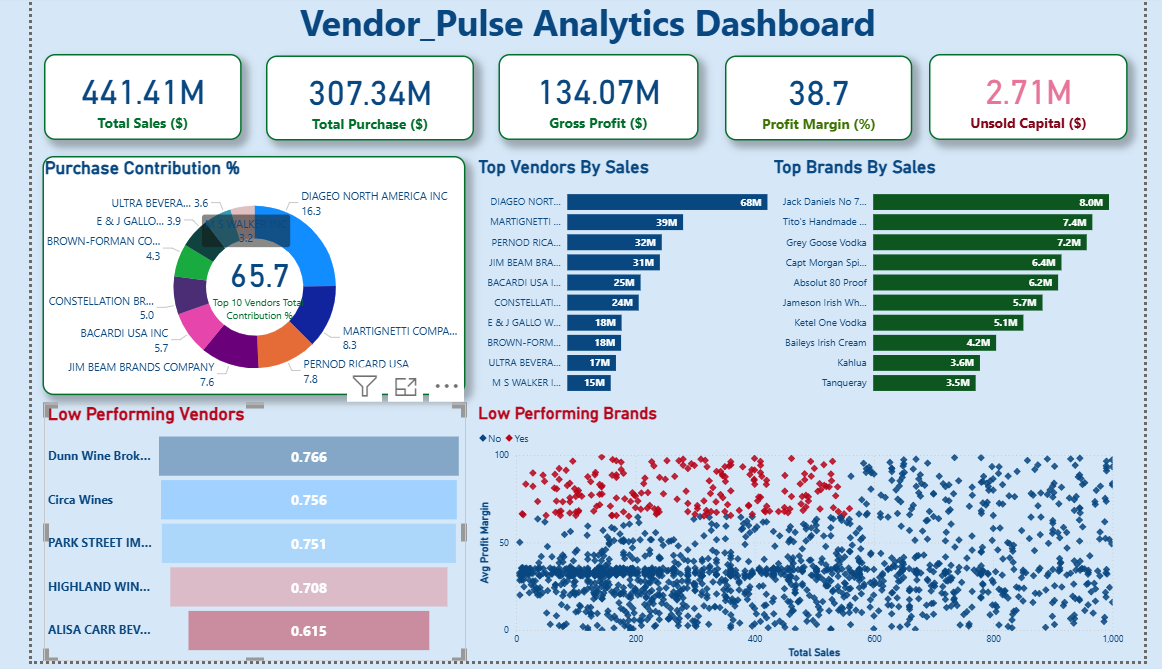

This screenshot's page, from the dashboard's own definition file:
{"tool":"powerbi","page":{"name":"Page 1","canvas":[1500,900],"ordinal":0},"visuals":[{"type":"card","fields":{"Values":["Sum(vendor_sales_summary.TotalPurchaseDollars)"]},"box":[315.8,82.4,280.9,114.6],"z":0},{"type":"card","fields":{"Values":["Sum(vendor_sales_summary.TotalSalesDollars)"]},"box":[16.8,81,266.9,116],"z":1000},{"type":"card","fields":{"Values":["Sum(vendor_sales_summary.GrossProfit)"]},"box":[630.2,81,269.7,116],"z":2000},{"type":"card","fields":{"Values":["Avg(vendor_sales_summary.ProfitMargin)"]},"box":[934.8,82.4,252.9,114.6],"z":3000},{"type":"card","fields":{"Values":["Sum(vendor_sales_summary.UnsoldCapital)"]},"box":[1210.1,81,268.3,116],"z":4000},{"type":"textbox","box":[0,0,1500,83],"z":5000},{"type":"donutChart","title":"Purchase Contribution % ","fields":{"Category":["PurchaseContribution.VendorName"],"Y":["Sum(PurchaseContribution.PurchaseContribution%)"]},"box":[14.5,219.4,571,322.6],"z":6000},{"type":"card","fields":{"Values":["Sum(PurchaseContribution.PurchaseContribution%)"]},"box":[211.8,266.7,188.2,233.3],"z":7000},{"type":"barChart","title":"Top Vendors By Sales","fields":{"Category":["vendor_sales_summary.VendorName"],"Y":["Sum(vendor_sales_summary.TotalSalesDollars)"]},"box":[597.3,219.2,447.9,332.9],"z":8000},{"type":"barChart","title":"Top Brands By Sales","fields":{"Category":["vendor_sales_summary.Description"],"Y":["Sum(vendor_sales_summary.TotalSalesDollars)"]},"box":[995.9,219.2,504.1,332.9],"z":9000},{"type":"funnel","title":"Low Performing Vendors","fields":{"Category":["LowTurnoverVendor.VendorName"],"Y":["Avg(LowTurnoverVendor.AvgStockTurnOver)"]},"box":[16.1,551.6,569.4,348.4],"z":10000},{"type":"scatterChart","title":"Low Performing Brands","fields":{"X":["Sum(BrandPerformance.TotalSales)"],"Y":["Sum(BrandPerformance.AvgProfitMargin)"],"Series":["BrandPerformance.TargetBrand"],"Category":["BrandPerformance.Description"]},"box":[596.8,551.6,880.6,348.4],"z":11000}]}

Visuals, with their boxes on the page's 1500x900 design canvas (x1, y1, x2, y2). These are canvas units, not pixel positions in the 1162x669 screenshot, which may show the page scaled, cropped or inside an application window:
card - Sum(vendor_sales_summary.TotalPurchaseDollars): [left=316, top=82, right=597, bottom=197]
card - Sum(vendor_sales_summary.TotalSalesDollars): [left=17, top=81, right=284, bottom=197]
card - Sum(vendor_sales_summary.GrossProfit): [left=630, top=81, right=900, bottom=197]
card - Avg(vendor_sales_summary.ProfitMargin): [left=935, top=82, right=1188, bottom=197]
card - Sum(vendor_sales_summary.UnsoldCapital): [left=1210, top=81, right=1478, bottom=197]
textbox: [left=0, top=0, right=1500, bottom=83]
"Purchase Contribution % " donutChart: [left=14, top=219, right=586, bottom=542]
card - Sum(PurchaseContribution.PurchaseContribution%): [left=212, top=267, right=400, bottom=500]
"Top Vendors By Sales" barChart: [left=597, top=219, right=1045, bottom=552]
"Top Brands By Sales" barChart: [left=996, top=219, right=1500, bottom=552]
"Low Performing Vendors" funnel: [left=16, top=552, right=586, bottom=900]
"Low Performing Brands" scatterChart: [left=597, top=552, right=1477, bottom=900]
